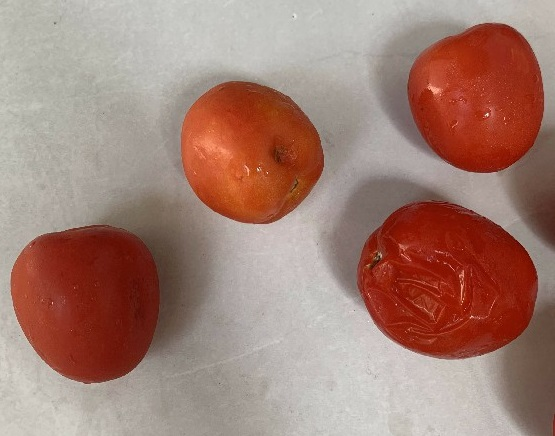NG: (346, 199, 544, 363), (168, 74, 331, 233)
OK: (1, 218, 162, 388), (403, 16, 551, 179)
